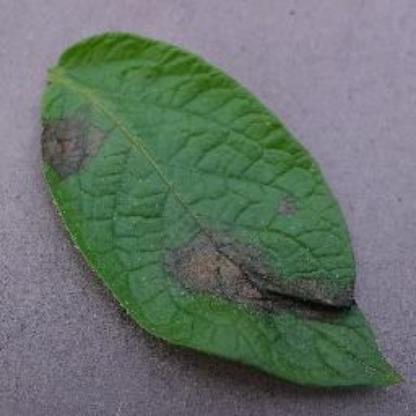Late-Blight: (34, 23, 406, 397)
